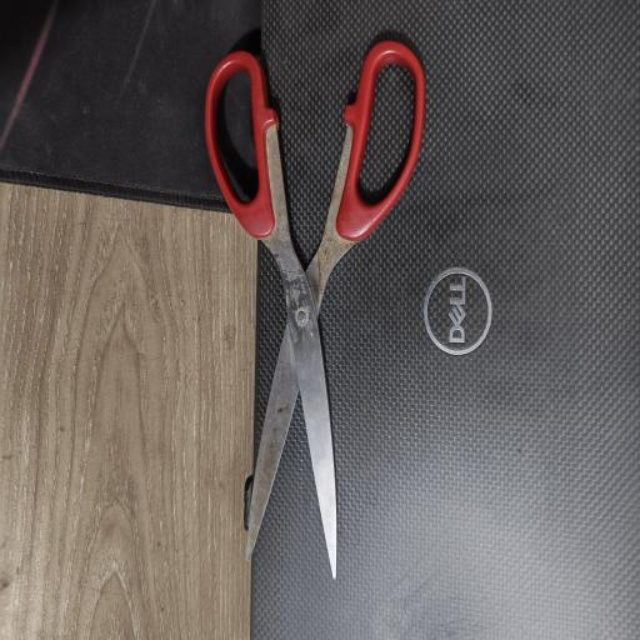scissor: (205, 42, 424, 579)
